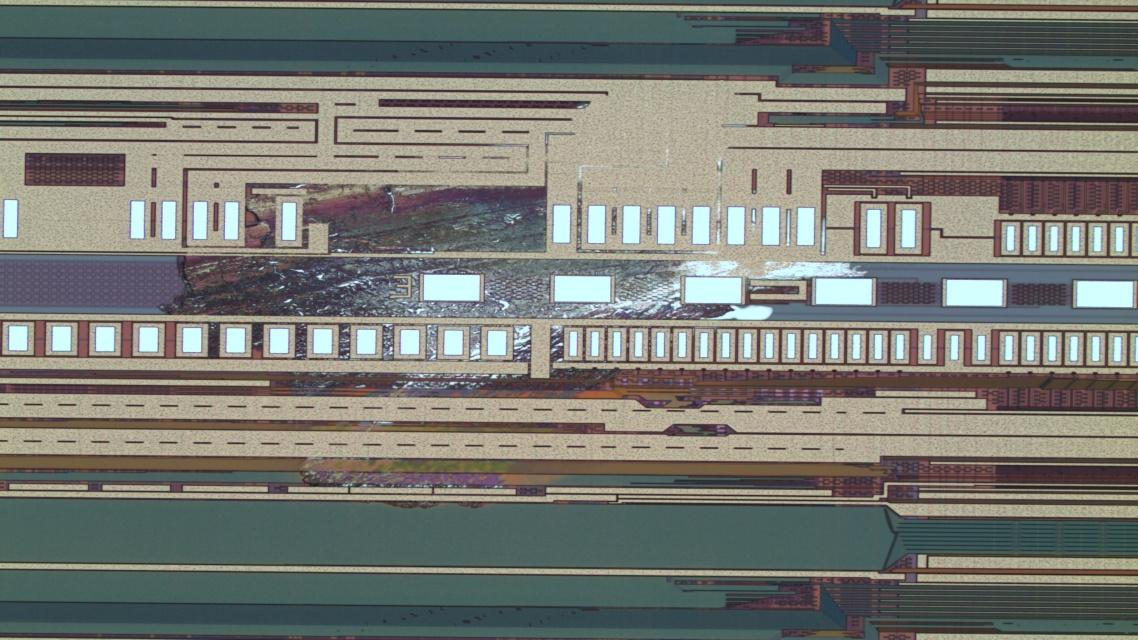BLOCK ETCH: (159, 81, 867, 510)
